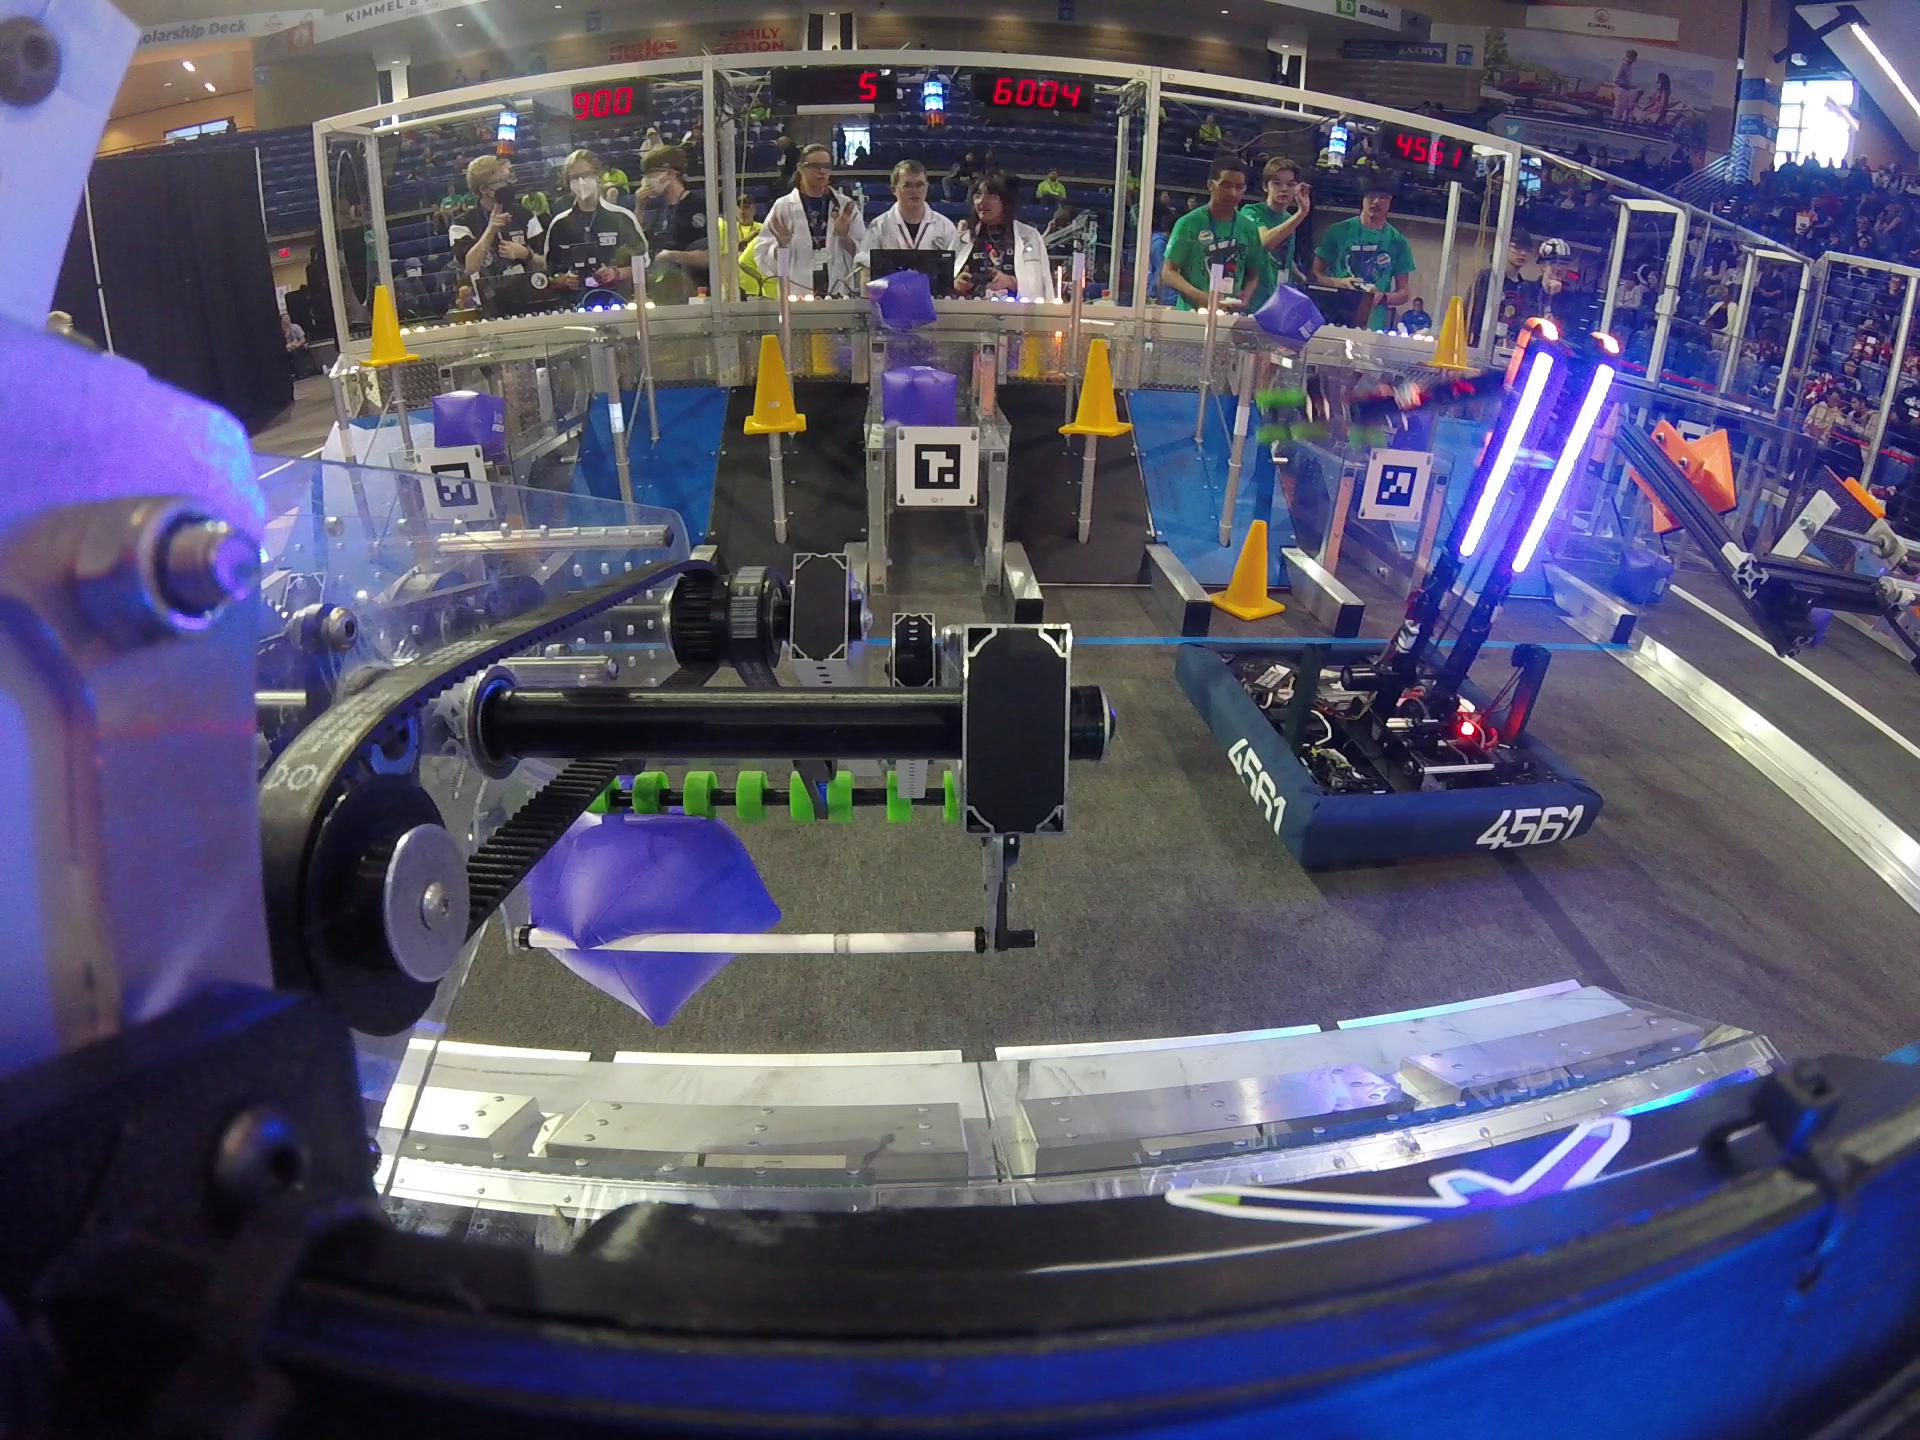robot: (1170, 375, 1596, 880)
